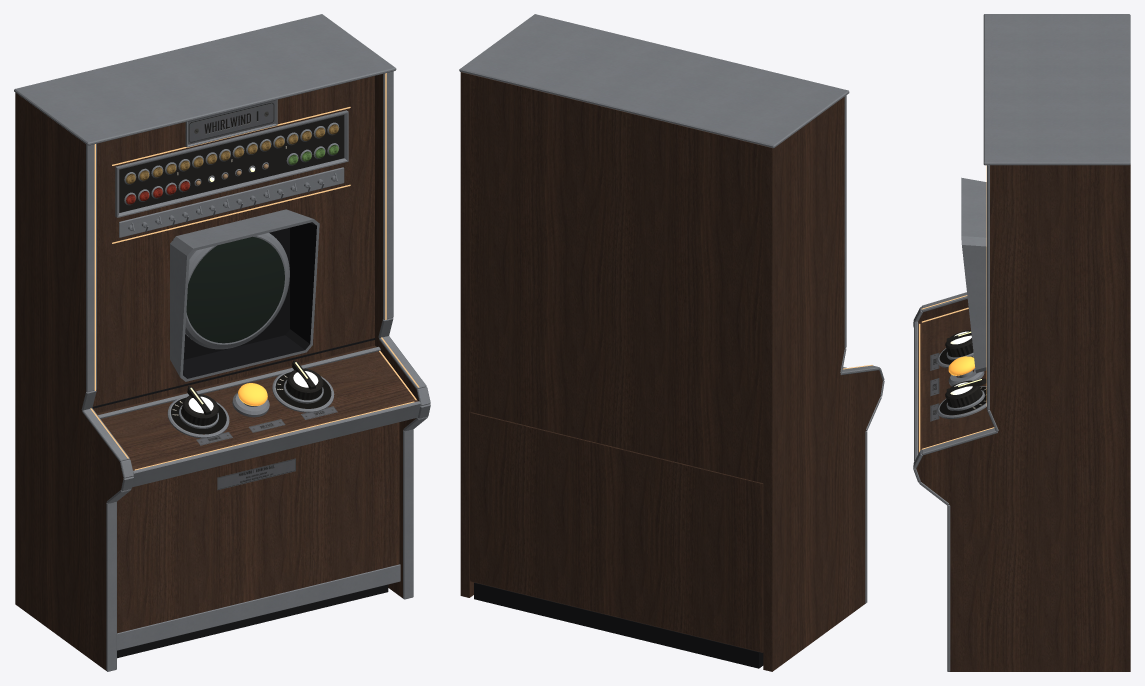
File: whirlwind.glb
The picture shows the model from 3 angles, left to right: view 1: azimuth 30°, elevation 25°; view 2: azimuth 150°, elevation 25°; view 3: azimuth 270°, elevation 25°; orthographic projection. The views are drawn at different scales.
Visible parts, largest first — view 1: Whirlwind_wood, Whirlwind_steel, Whirlwind_black, Tube_Screen, Whirlwind_bakelite, Whirlwind_parts, Whirlwind_glow, Whirlwind_dialplate, Knob_Speed, Knob_Bounce; view 2: Whirlwind_wood, Whirlwind_steel, Whirlwind_black; view 3: Whirlwind_wood, Whirlwind_steel, Knob_Speed, Whirlwind_glow, Knob_Bounce, Whirlwind_dialplate, Plunger_Release, Whirlwind_parts.
Boxes of the visible parts, x1,y1,x2,y2 form: Whirlwind_wood: [15, 74, 418, 670]; Whirlwind_steel: [14, 14, 430, 671]; Whirlwind_black: [92, 222, 388, 658]; Tube_Screen: [186, 236, 284, 343]; Whirlwind_bakelite: [119, 115, 344, 212]; Whirlwind_parts: [188, 101, 337, 490]; Whirlwind_glow: [90, 73, 419, 470]; Whirlwind_dialplate: [171, 372, 331, 434]; Knob_Speed: [283, 360, 323, 403]; Knob_Bounce: [179, 386, 218, 428]; Whirlwind_wood: [460, 72, 882, 671]; Whirlwind_steel: [459, 14, 884, 603]; Whirlwind_black: [474, 582, 763, 668]; Whirlwind_wood: [916, 164, 1130, 671]; Whirlwind_steel: [913, 14, 1130, 671]; Knob_Speed: [945, 378, 986, 410]; Whirlwind_glow: [919, 165, 994, 452]; Knob_Bounce: [945, 330, 973, 360]; Whirlwind_dialplate: [939, 348, 986, 415]; Plunger_Release: [948, 356, 975, 377]; Whirlwind_parts: [930, 353, 939, 421].
Bounding box in the file's own units: 1.42 × 2.26 × 0.8716.
17 materials, 7 textured.
